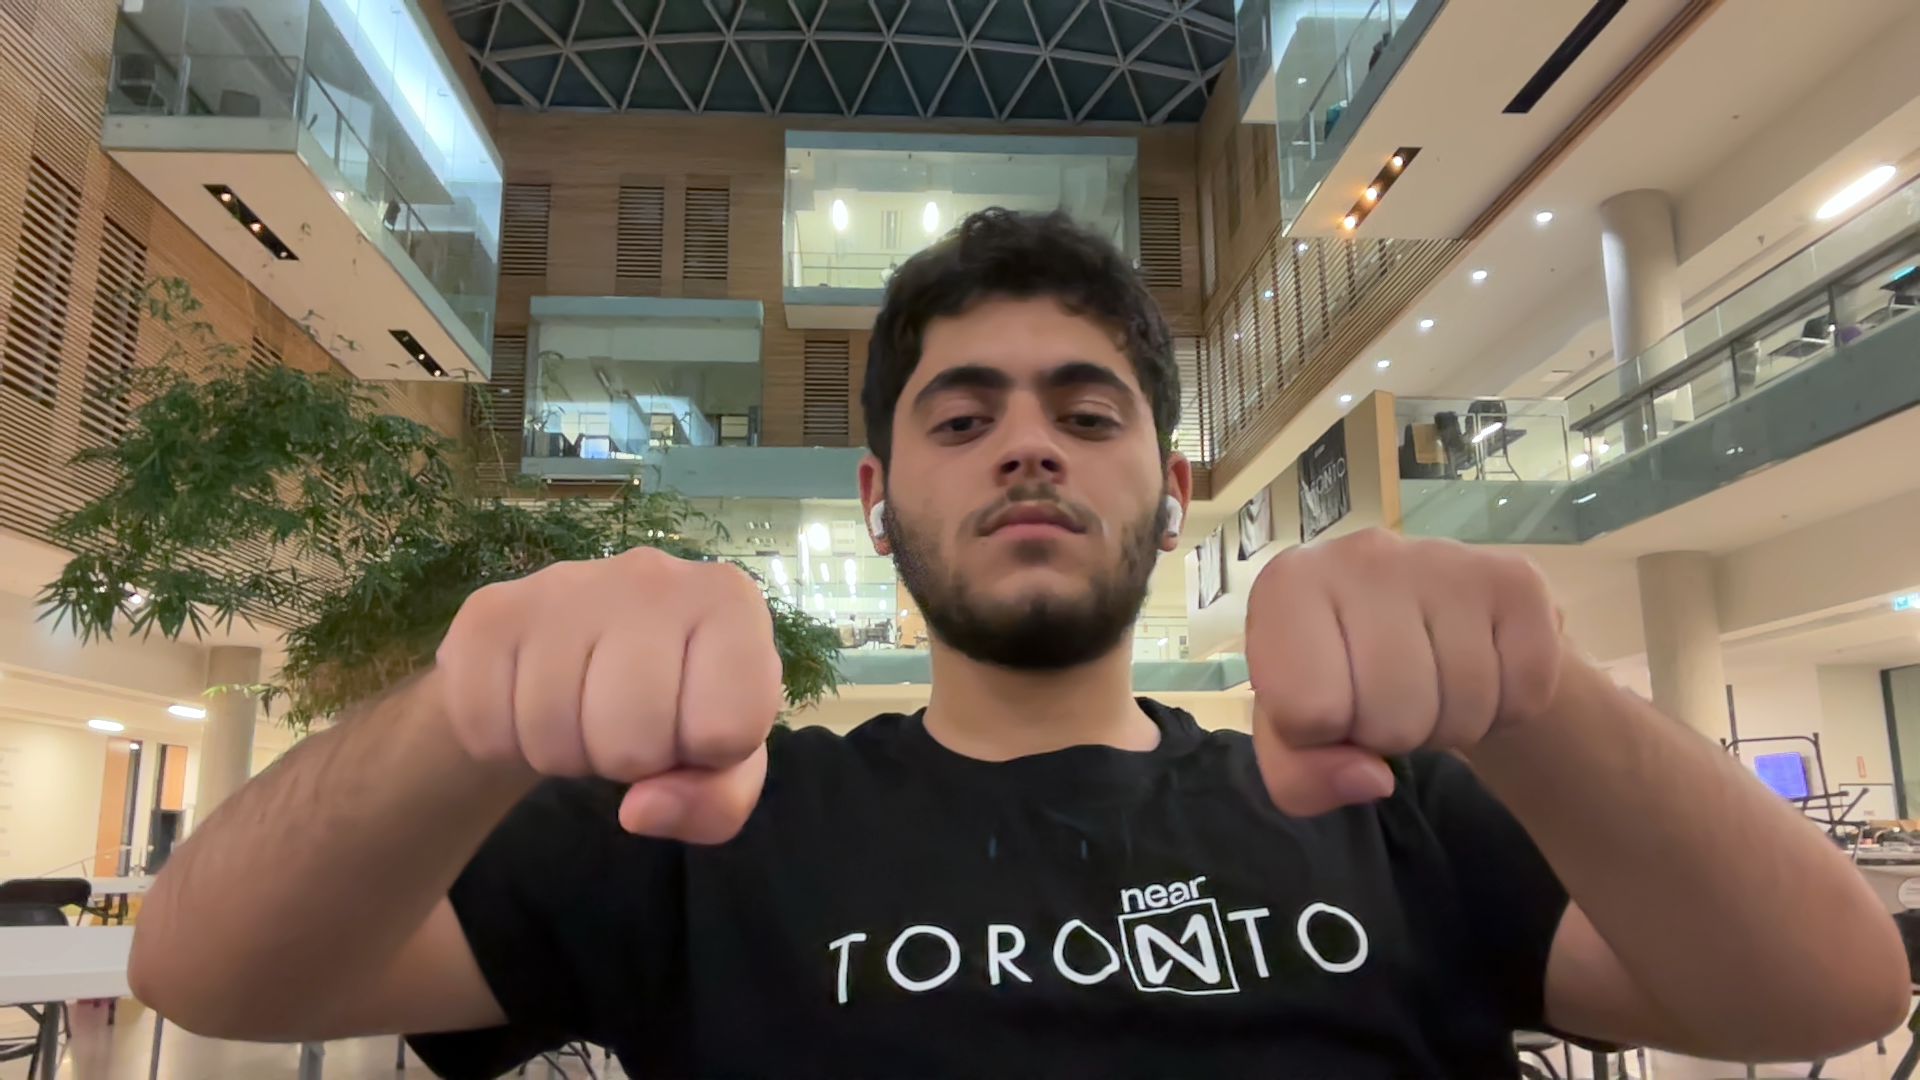yes: (404, 520, 861, 829), (1232, 512, 1604, 855)
